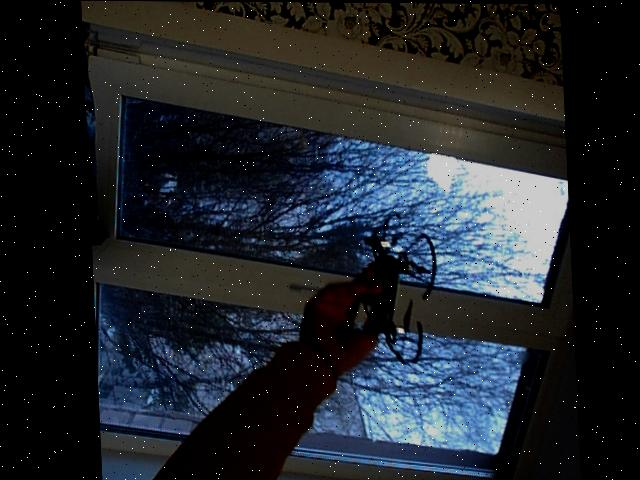drone: (335, 212, 443, 367)
